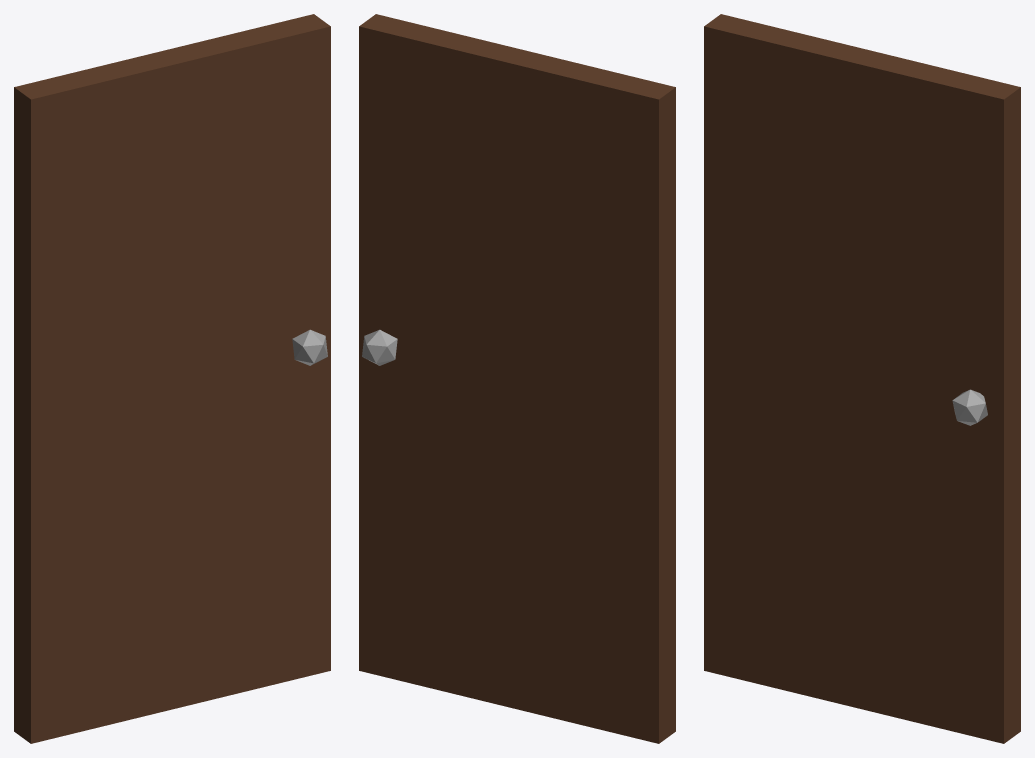
Rendered from door.fbx.
3 renders of one model, left to right at view 1: azimuth 30°, elevation 25°; view 2: azimuth 150°, elevation 25°; view 3: azimuth 330°, elevation 25°, orthographic.
Parts seen in each view (by area): view 1: Cube, Icosphere; view 2: Cube, Icosphere.001; view 3: Cube, Icosphere.
Boxes of the visible parts, x1,y1,x2,y2 form: Cube: [14, 14, 330, 743]; Icosphere: [292, 329, 327, 365]; Cube: [359, 14, 675, 743]; Icosphere.001: [362, 329, 397, 365]; Cube: [704, 14, 1020, 743]; Icosphere: [952, 389, 987, 425].
Size of the model in its own units: 277 by 568 by 75.06.
